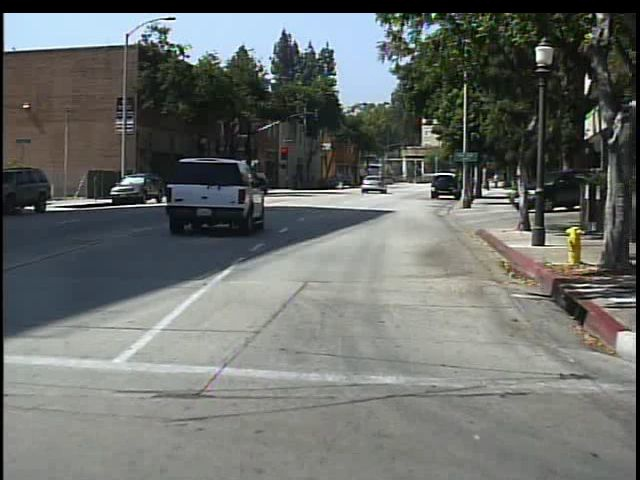person: (332, 172, 348, 192), (491, 170, 501, 191)
